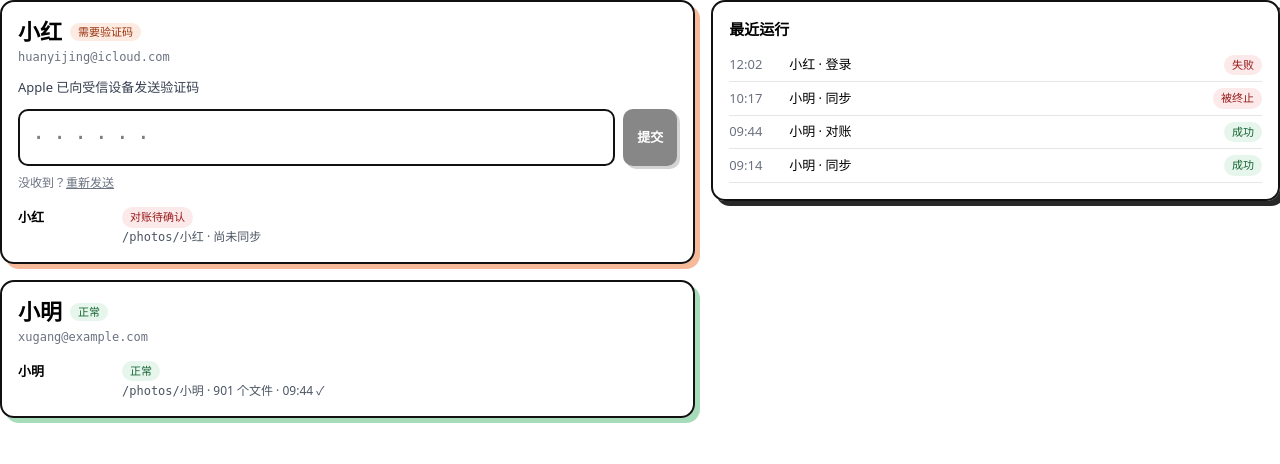
Test case: AccountCard 2FA flow › 重新发送 clears the previous /code error
The width and height of the screenshot is (1280, 464).
In the field named "验证码": {"x": 317, "y": 138} [18,109,615,166], type "123456"
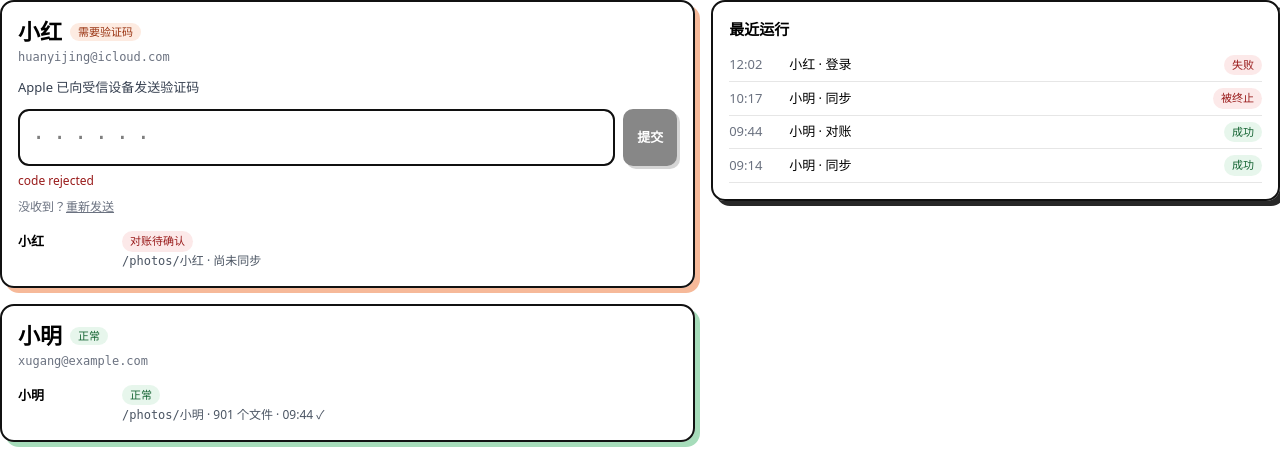
Result: the text "code rejected" is shown at [18,172,94,189]
Click the button "重新发送": {"x": 90, "y": 207} [66,198,114,216]
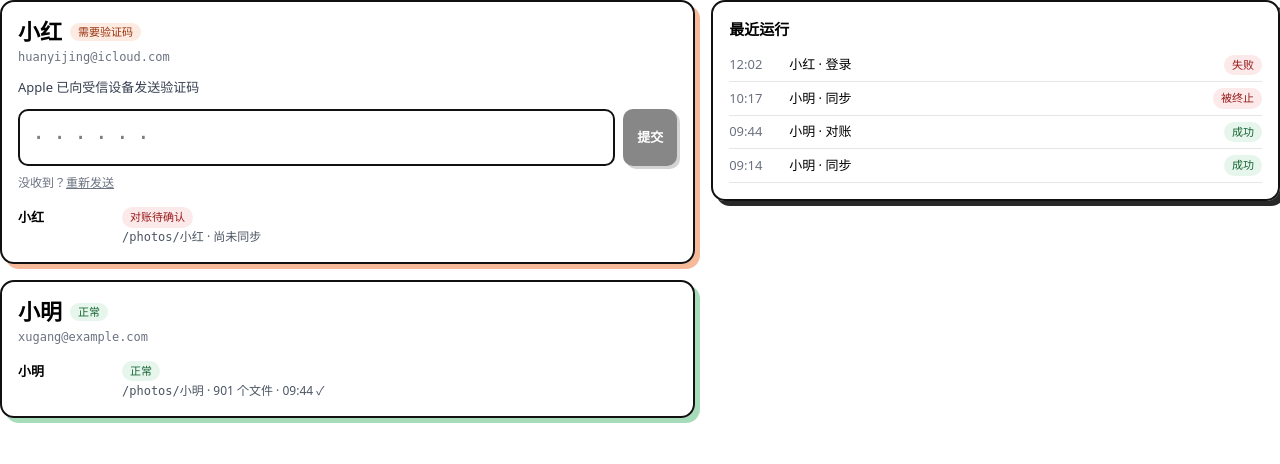
Result: the text "code rejected" is gone
